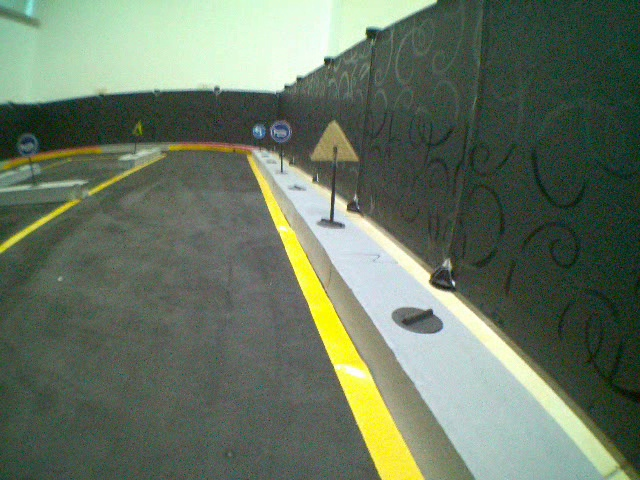fast: (130, 119, 144, 135)
horn: (15, 132, 40, 156), (270, 119, 292, 143)
turn: (252, 124, 266, 139)
